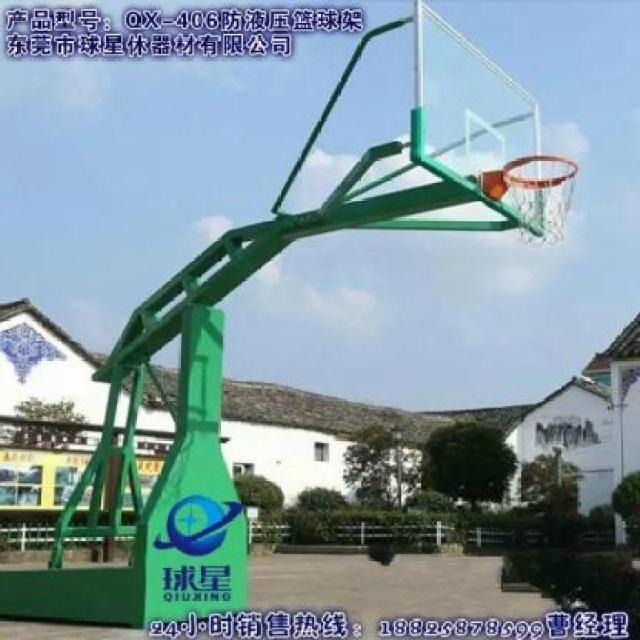rim: (506, 153, 582, 247)
